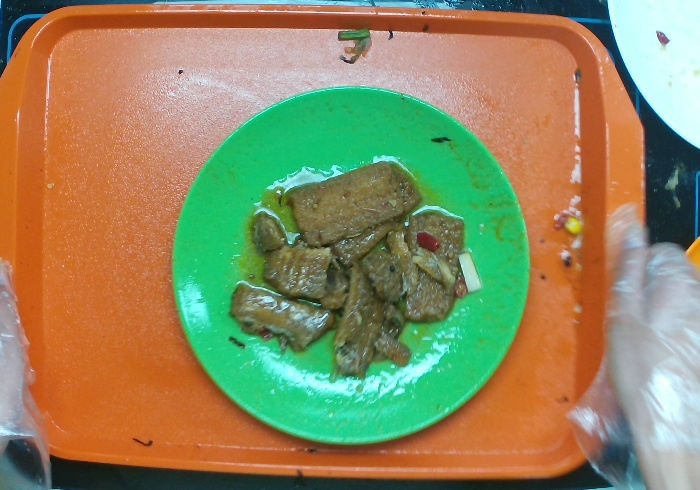HZYJPL-Lv_Se_Yuan_Pan: (172, 86, 534, 445)
